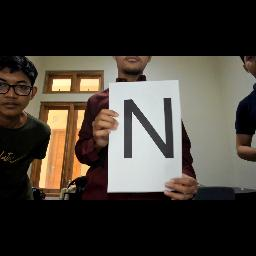n: (115, 96, 185, 164)
